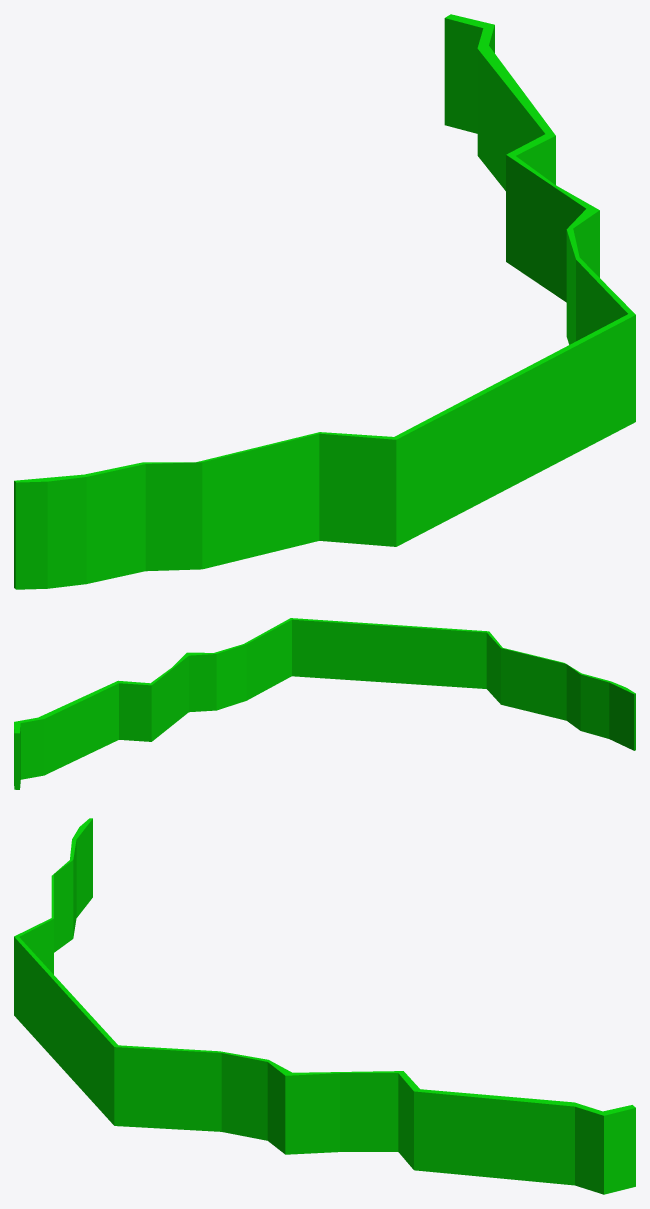
The model's file is InvisibleWall_021.fbx.
3 views of the same model, one above another, from view 1: azimuth 30°, elevation 25°; view 2: azimuth 150°, elevation 25°; view 3: azimuth 270°, elevation 25° (orthographic). The views are drawn at different scales.
Visible parts, largest first — view 1: Designer194; view 2: Designer194; view 3: Designer194.
Part boxes in pixels (x1,y1,x2,y2): Designer194: [14, 14, 635, 589]; Designer194: [14, 618, 635, 789]; Designer194: [14, 818, 635, 1194].
Size of the model in its own units: 30359 by 3754 by 26816.
